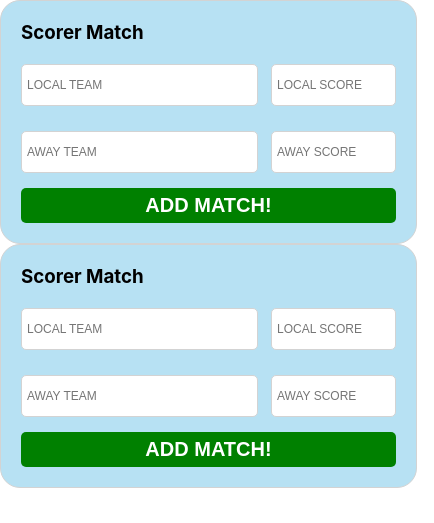
Scenario: Scorer container › submit button › show error message for empty form
The image size is (434, 523).
Click the 2nd button "ADD MATCH!".
click(208, 450)  # box [21,432,396,467]
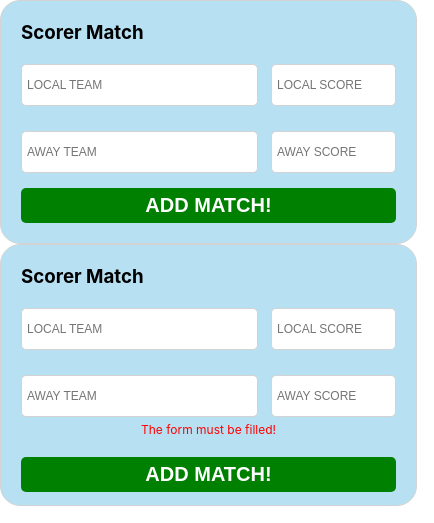
Expected: the text "The form must be filled!" is shown, [141,422,276,437]
